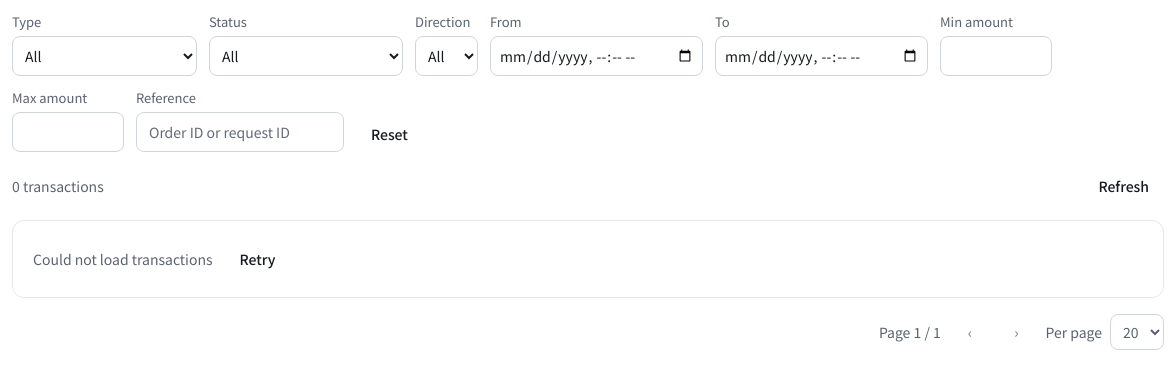
Test: TransactionsSection list (F-03-02) › shows an inline error with retry
expect the text "Could not load transactions" is shown: met, box top-left (33, 248), bottom-right (212, 270)
Click the button "Retry".
click(257, 259)  # box top-left (224, 241), bottom-right (290, 277)
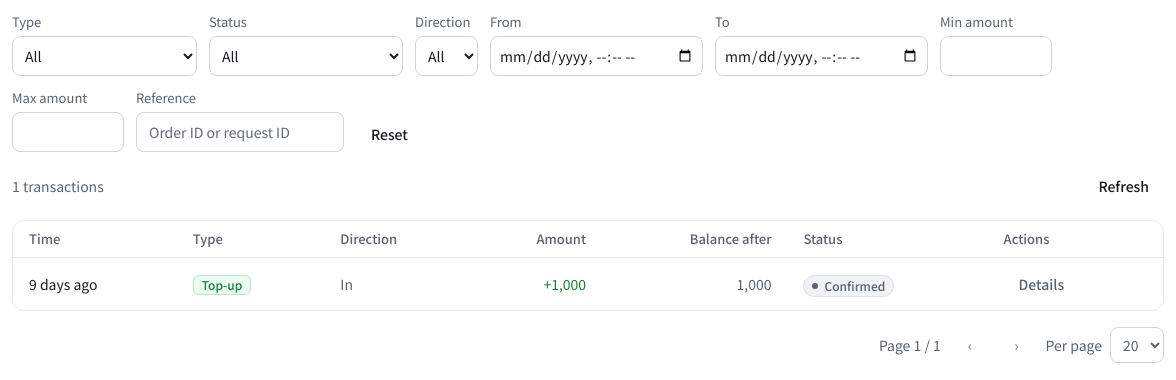
expect the text "+1,000" is shown: met, box top-left (469, 258), bottom-right (602, 310)
